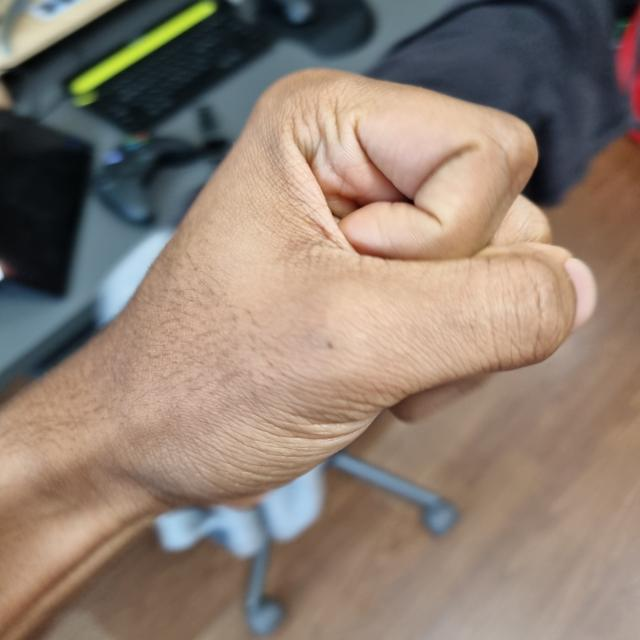Rock: (85, 73, 582, 507)
